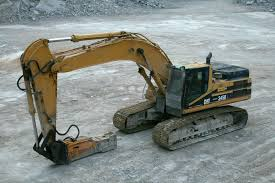excavator: (23, 32, 255, 168)
